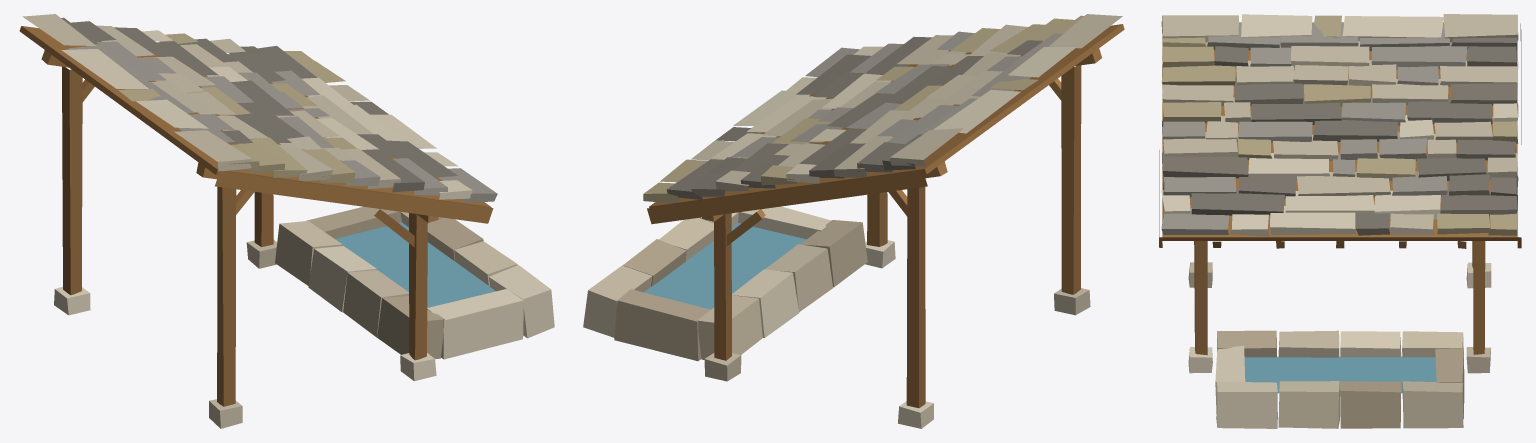
The model's file is lavoir.glb.
3 renders of one model, left to right at view 1: azimuth 30°, elevation 25°; view 2: azimuth 150°, elevation 25°; view 3: azimuth 270°, elevation 25°, orthographic. The views are drawn at different scales.
Parts seen in each view (by area): view 1: lavoir; view 2: lavoir; view 3: lavoir.
Part boxes in pixels (x1,y1,x2,y2): lavoir: (19,14,554,428); lavoir: (583,14,1124,428); lavoir: (1159,14,1521,428).
Size of the model in its own units: 5.06 by 3.68 by 4.7.
